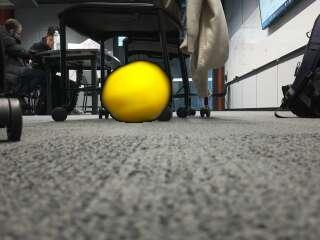lemon: (102, 62, 171, 123)
